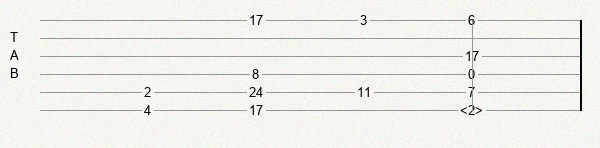0: (468, 67, 479, 81)
11: (357, 85, 375, 99)
17: (249, 13, 267, 27), (249, 103, 267, 117), (465, 49, 483, 63)
2: (144, 85, 155, 99)
24: (249, 85, 267, 99)
3: (360, 13, 371, 27)
4: (144, 103, 155, 117)
6: (468, 13, 479, 27)
7: (468, 85, 479, 99)
8: (252, 67, 263, 81)
harmonic: (460, 103, 487, 117)
